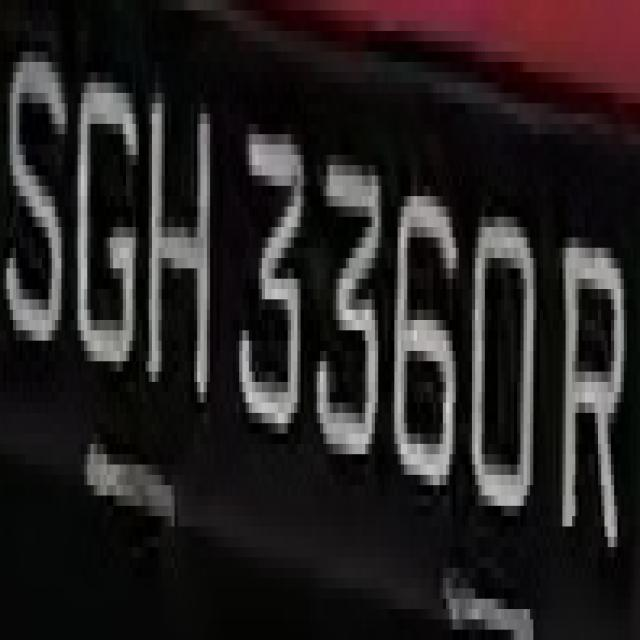0: (459, 165, 546, 537)
3: (242, 82, 304, 464), (317, 124, 381, 485)
6: (385, 144, 459, 496)
G: (74, 31, 142, 403)
H: (142, 72, 226, 423)
R: (562, 186, 620, 568)
S: (3, 10, 68, 403)
